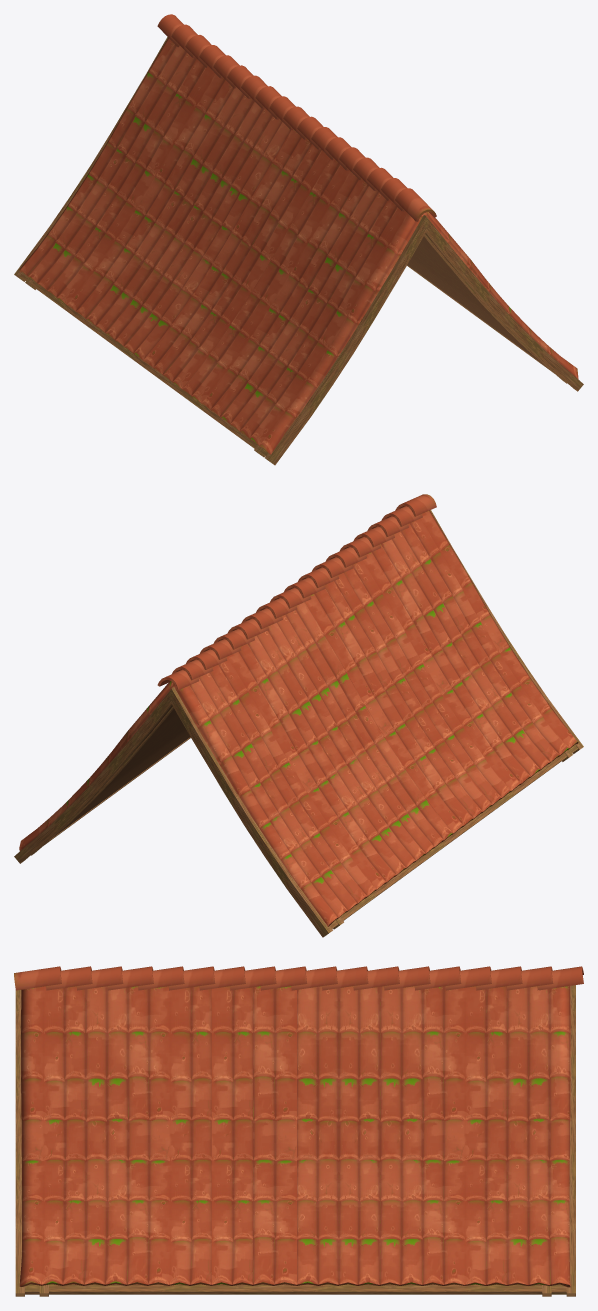
The model's file is Roof_RoundTiles_8x12.gltf.
The picture shows the model from 3 angles, top to bottom: view 1: azimuth 30°, elevation 25°; view 2: azimuth 150°, elevation 25°; view 3: azimuth 270°, elevation 25°; orthographic projection. The views are drawn at different scales.
Parts seen in each view (by area): view 1: Roof_RoundTiles_8x12; view 2: Roof_RoundTiles_8x12; view 3: Roof_RoundTiles_8x12.
Part boxes in pixels (<box>): Roof_RoundTiles_8x12: <box>14,14,583,465</box>; Roof_RoundTiles_8x12: <box>14,494,583,937</box>; Roof_RoundTiles_8x12: <box>14,966,583,1296</box>.
Bounding box in the file's own units: 9.95 × 6.78 × 14.13.
2 materials, 2 textured.
